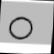no answer: (7, 12, 37, 44)
